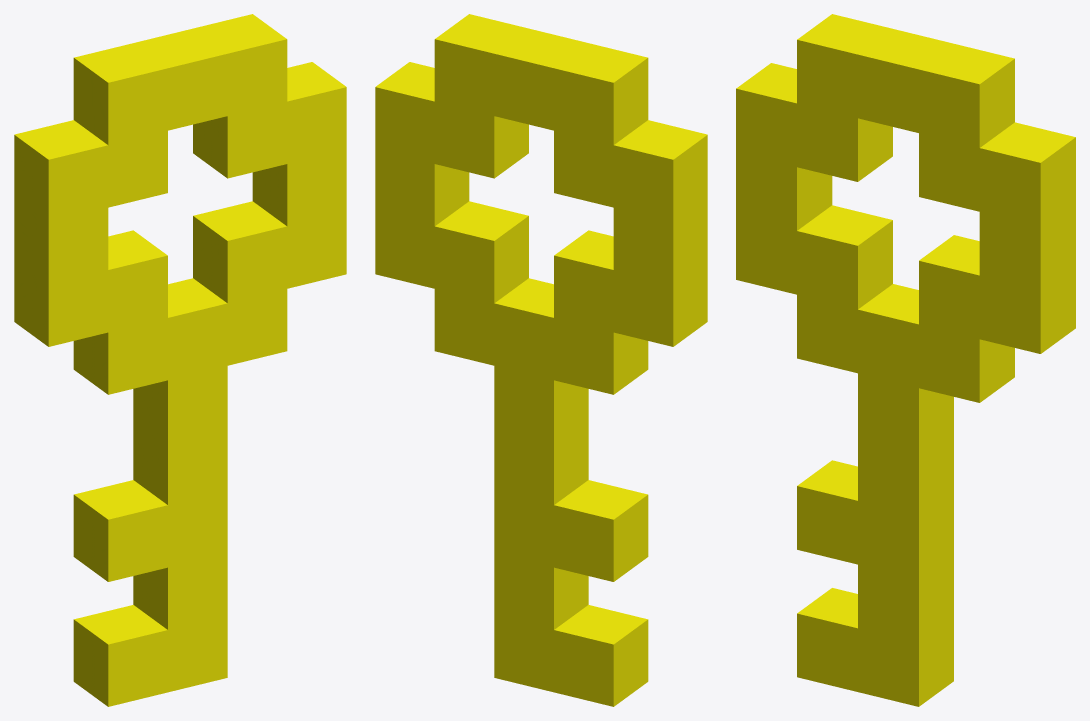
Rendered from Key.obj.
3 views of the same model, side by side, from view 1: azimuth 30°, elevation 25°; view 2: azimuth 150°, elevation 25°; view 3: azimuth 330°, elevation 25° (orthographic). The views are drawn at different scales.
Parts seen in each view (by area): view 1: pPlane1; view 2: pPlane1; view 3: pPlane1.
Part boxes in pixels (<box>): pPlane1: <box>14,14,346,706</box>; pPlane1: <box>375,14,707,706</box>; pPlane1: <box>736,14,1075,706</box>.
Bounding box in the file's own units: 5 × 10 × 1.
